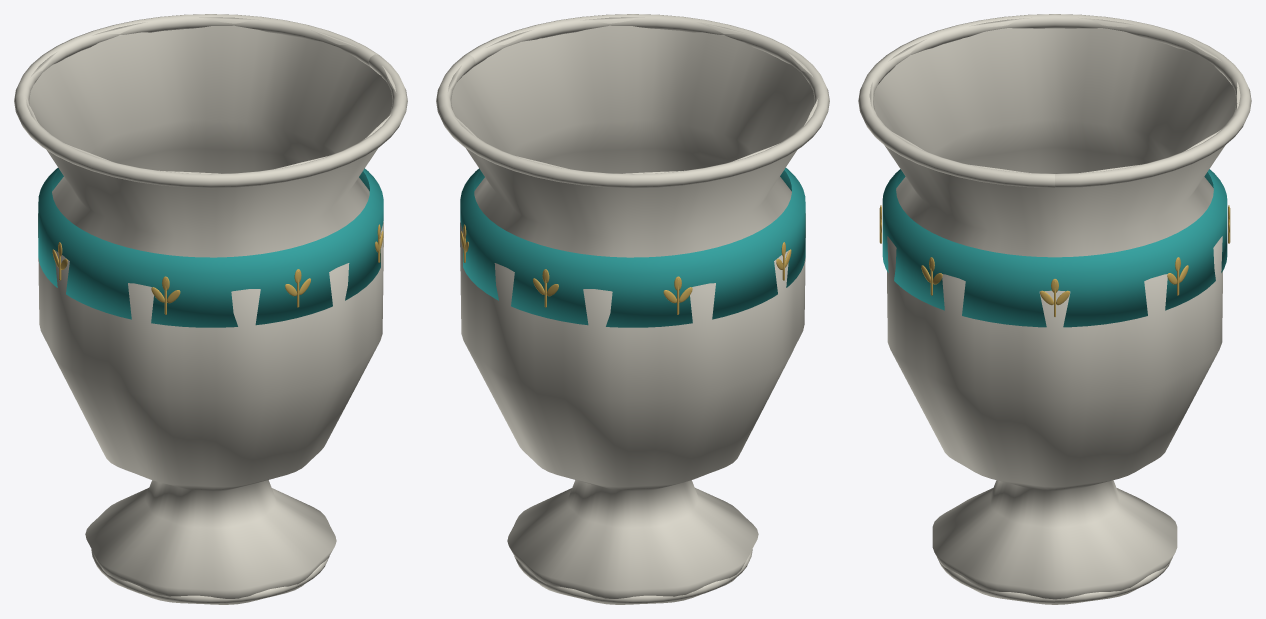
The model's file is stock_vase_lily.glb.
3 views of the same model, side by side, from view 1: azimuth 30°, elevation 25°; view 2: azimuth 150°, elevation 25°; view 3: azimuth 270°, elevation 25° (orthographic).
Visible parts, largest first — view 1: Continuous_hollow_vessel, Teal_shoulder_band, Rolled_open_lip, Base_ring; view 2: Continuous_hollow_vessel, Teal_shoulder_band, Rolled_open_lip, Base_ring; view 3: Continuous_hollow_vessel, Teal_shoulder_band, Rolled_open_lip, Base_ring.
Part boxes in pixels (box(x1,y1,x2,y2)): Continuous_hollow_vessel: box(25, 17, 396, 604); Teal_shoulder_band: box(38, 168, 383, 327); Rolled_open_lip: box(14, 14, 407, 188); Base_ring: box(91, 549, 329, 603); Continuous_hollow_vessel: box(447, 17, 818, 604); Teal_shoulder_band: box(460, 168, 805, 327); Rolled_open_lip: box(436, 14, 829, 188); Base_ring: box(514, 549, 752, 603); Continuous_hollow_vessel: box(869, 17, 1240, 604); Teal_shoulder_band: box(882, 169, 1227, 327); Rolled_open_lip: box(858, 14, 1251, 187); Base_ring: box(937, 557, 1172, 602).
Size of the model in its own units: 0.26 by 0.341 by 0.26.
